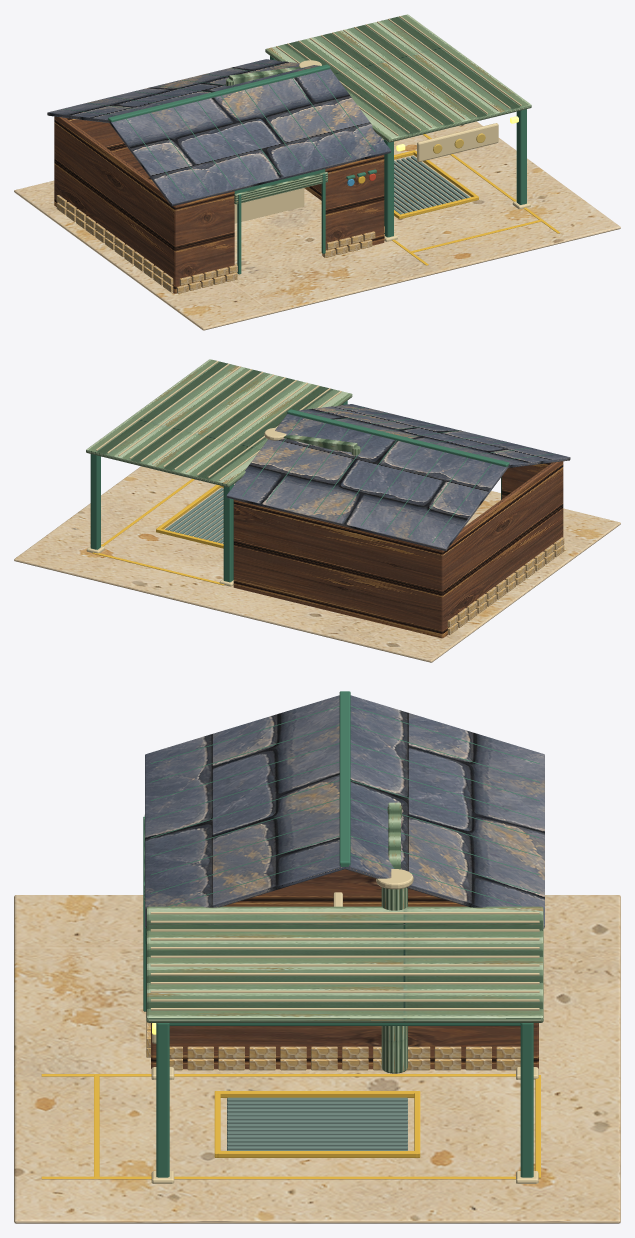
The model's file is bracken_grain_store.glb.
The picture shows the model from 3 angles, top to bottom: view 1: azimuth 30°, elevation 25°; view 2: azimuth 150°, elevation 25°; view 3: azimuth 270°, elevation 25°; orthographic projection. The views are drawn at different scales.
Visible parts, largest first — view 1: Painted warm concrete, Painted blue slate, Painted chestnut grain-store timber, Painted sage grain-store metal, Warm cream trim, Deep green structural steel, Painted honey limestone, Intake grate steel, Intake safety ochre; view 2: Painted chestnut grain-store timber, Painted blue slate, Painted warm concrete, Painted sage grain-store metal, Deep green structural steel, Warm cream trim, Painted honey limestone, Intake grate steel, Intake safety ochre; view 3: Painted warm concrete, Painted blue slate, Painted sage grain-store metal, Warm cream trim, Painted chestnut grain-store timber, Deep green structural steel, Intake grate steel, Intake safety ochre, Painted honey limestone.
Part boxes in pixels (bbox=[...]): Painted warm concrete: bbox=[14, 121, 620, 330]; Painted blue slate: bbox=[47, 59, 391, 206]; Painted chestnut grain-store timber: bbox=[54, 116, 384, 293]; Painted sage grain-store metal: bbox=[226, 14, 531, 204]; Warm cream trim: bbox=[234, 16, 530, 241]; Deep green structural steel: bbox=[63, 56, 526, 274]; Painted honey limestone: bbox=[56, 195, 384, 293]; Intake grate steel: bbox=[394, 156, 469, 214]; Intake safety ochre: bbox=[358, 134, 560, 265]; Painted chestnut grain-store timber: bbox=[233, 461, 563, 638]; Painted blue slate: bbox=[226, 404, 570, 550]; Painted warm concrete: bbox=[14, 466, 620, 662]; Painted sage grain-store metal: bbox=[86, 359, 360, 487]; Deep green structural steel: bbox=[90, 401, 553, 582]; Warm cream trim: bbox=[86, 360, 341, 586]; Painted honey limestone: bbox=[447, 537, 564, 634]; Intake grate steel: bbox=[165, 488, 223, 543]; Intake safety ochre: bbox=[92, 478, 224, 585]; Painted warm concrete: bbox=[14, 895, 620, 1223]; Painted blue slate: bbox=[145, 695, 544, 928]; Painted sage grain-store metal: bbox=[144, 802, 543, 1073]; Warm cream trim: bbox=[150, 869, 539, 1183]; Painted chestnut grain-store timber: bbox=[151, 869, 538, 1069]; Deep green structural steel: bbox=[143, 691, 539, 1177]; Intake grate steel: bbox=[227, 1097, 407, 1150]; Intake safety ochre: bbox=[41, 1074, 540, 1179]; Painted honey limestone: bbox=[146, 1021, 520, 1070].
Size of the model in its own units: 28 by 8.69 by 22.
Materials: 14 (5 with a texture image).
